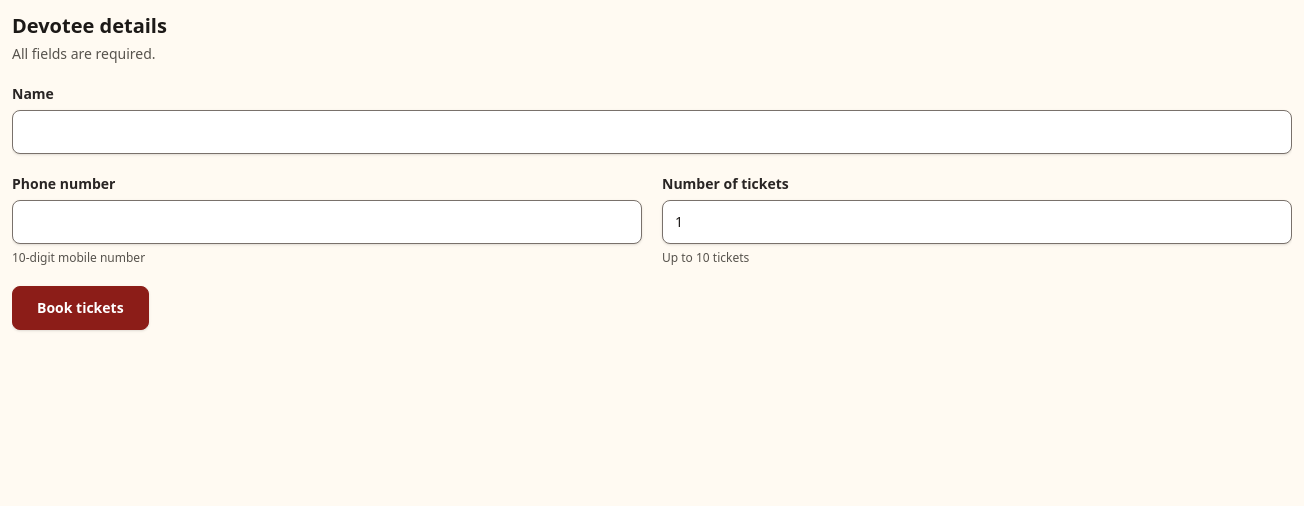
Test: BookingForm › keeps the typed values after a failed booking and books on retry
The width and height of the screenshot is (1304, 506).
Type "Anil Kumar" into the field labelled "Name" at (652, 132), box [12,110,1292,154]
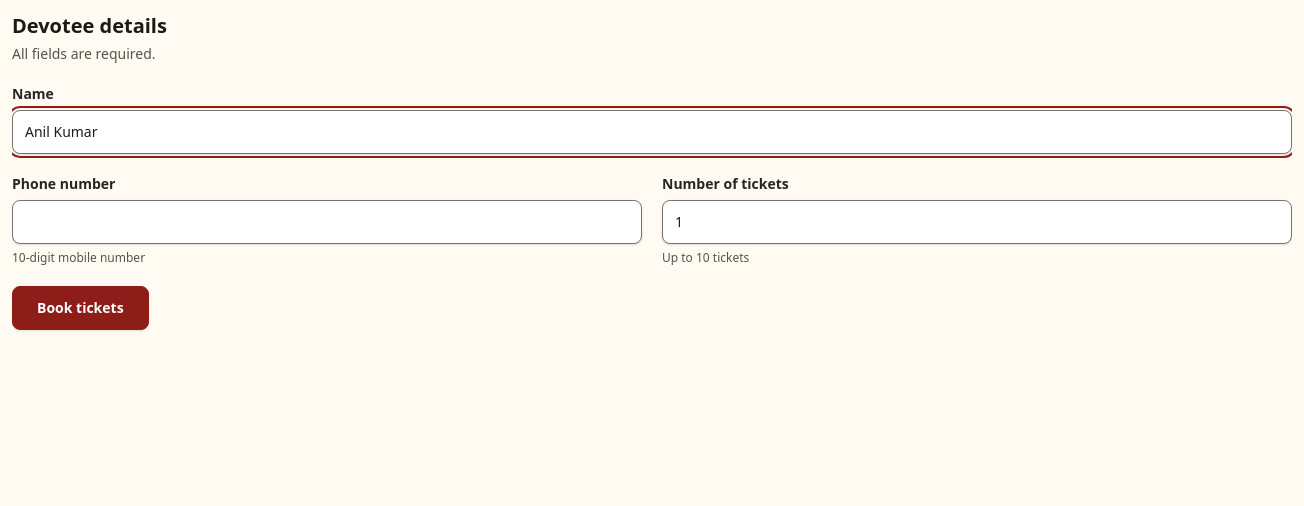
Type "9876543210" into the field labelled "Phone number" at (327, 222), box [12,200,642,244]
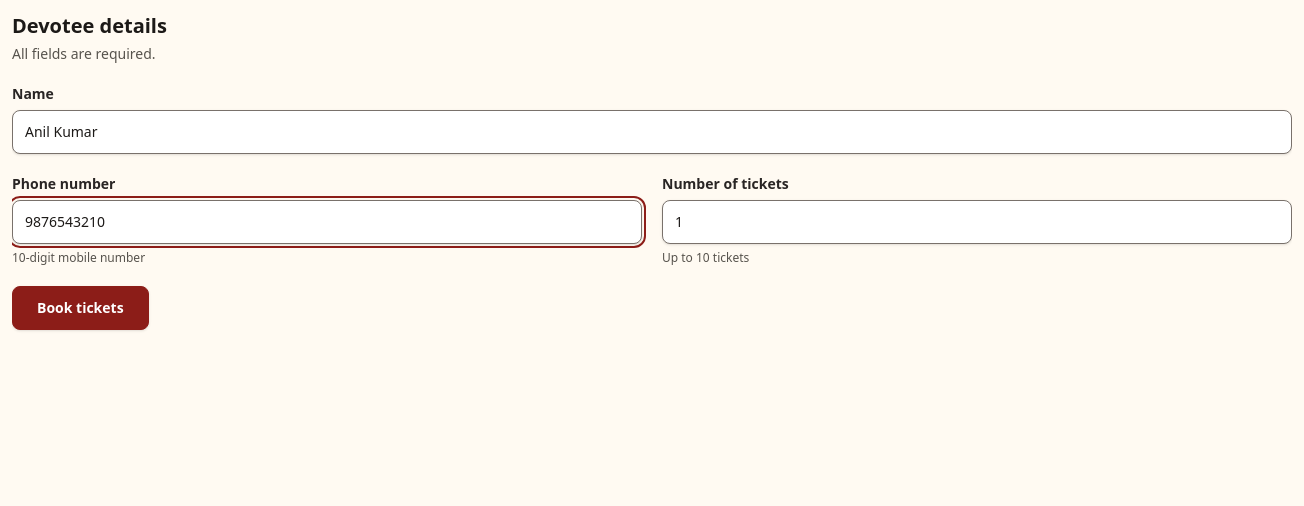
Replace the text in the number field labelled "Number of tickets" with "3" at (977, 222), box [662,200,1292,244]
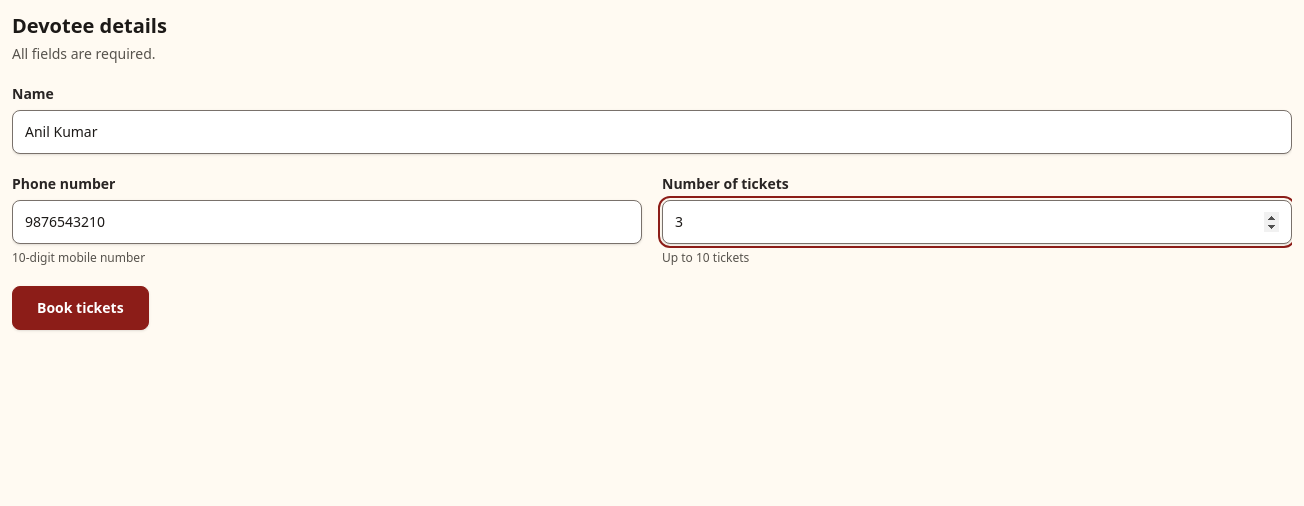
Click the button "Book tickets" at (80, 308), box [12,286,149,330]
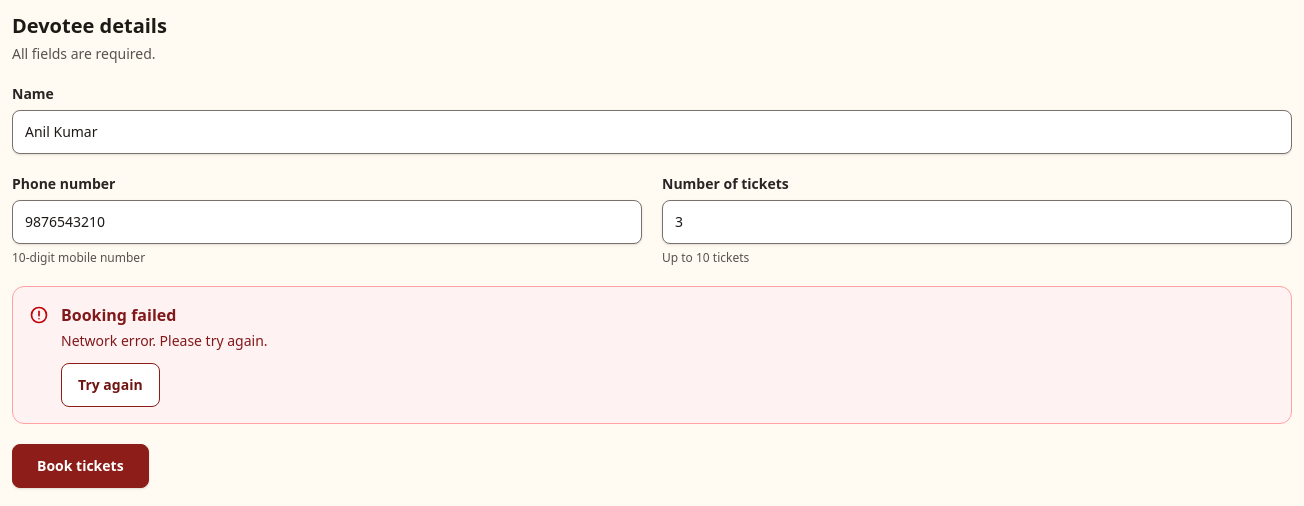
Expected: the message shows "Network error", [61,331,268,350]
Click the button "Book tickets" at (80, 466), box [12,444,149,488]
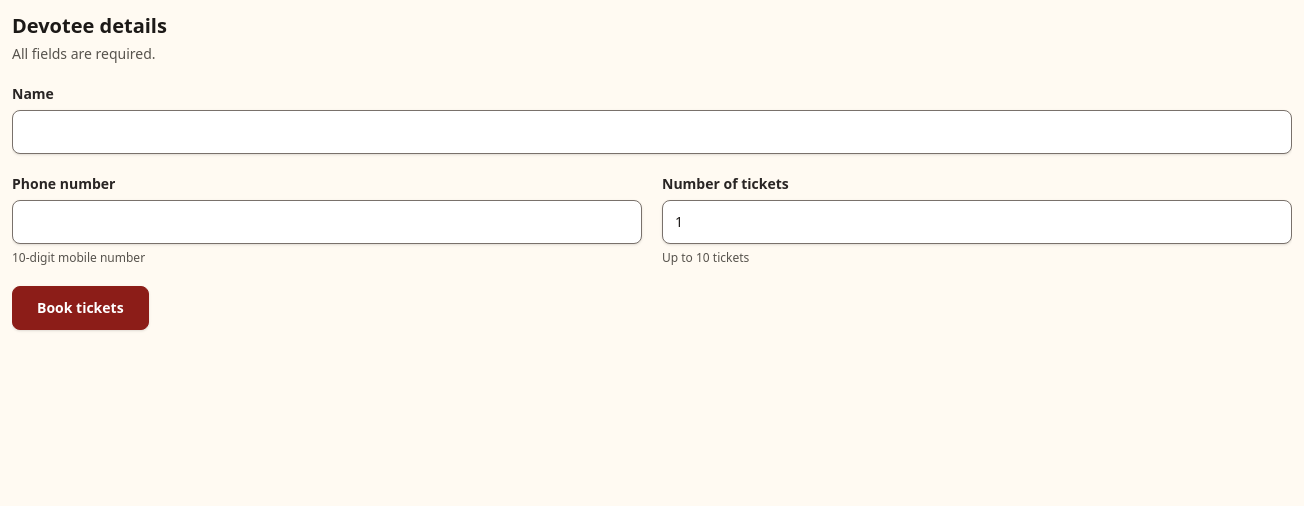
Expected: the message "Booking failed Network error. Please try again. Try again" is gone
